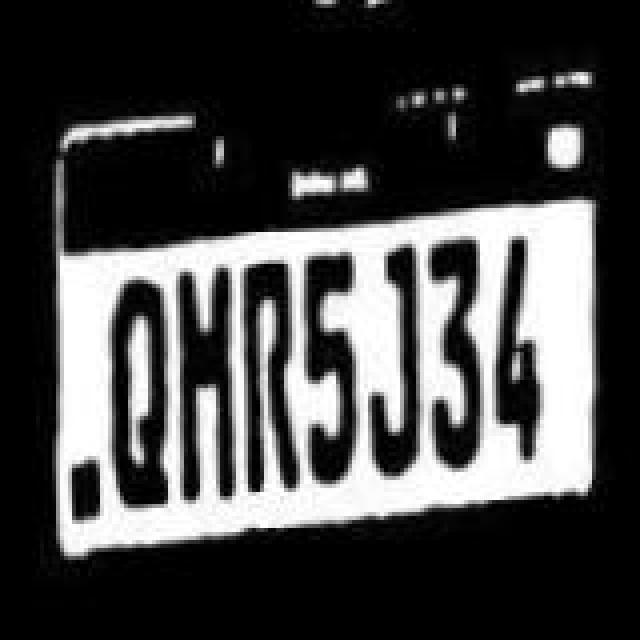3: (426, 232, 494, 468)
4: (486, 234, 546, 470)
5: (302, 244, 362, 484)
J: (360, 240, 424, 484)
M: (172, 266, 236, 506)
Q: (100, 262, 172, 514)
R: (238, 258, 298, 490)
